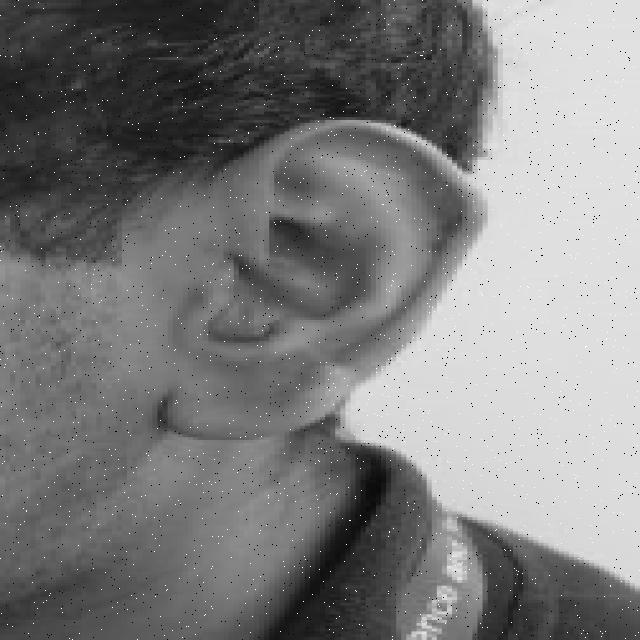ear: (163, 120, 483, 437)
